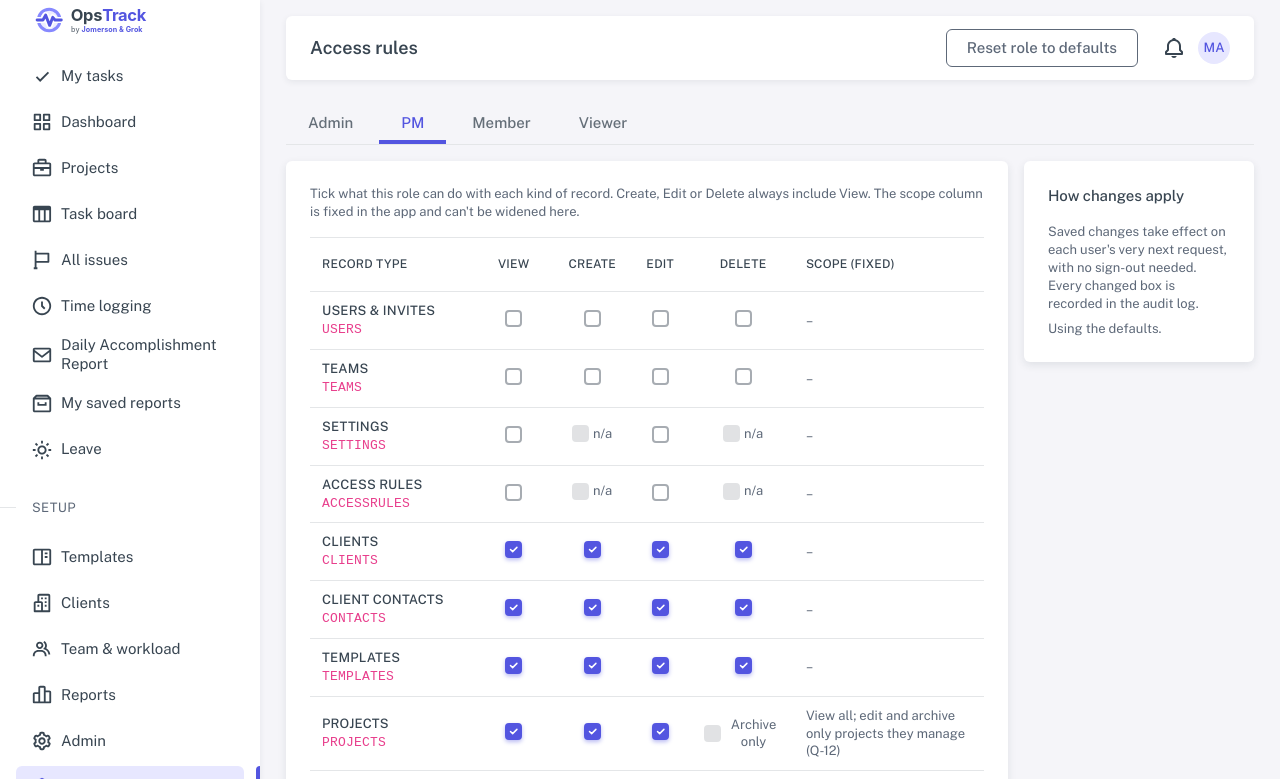
Access rules screen (doc 11, mockup v0.5.2) › EC-53 a 403 on save shows "You no longer have permission to do this."
Expected: the text "clients" is shown, [322, 553, 378, 568]
Click the checkbox named "Delete Clients": click(743, 550) [735, 541, 752, 558]
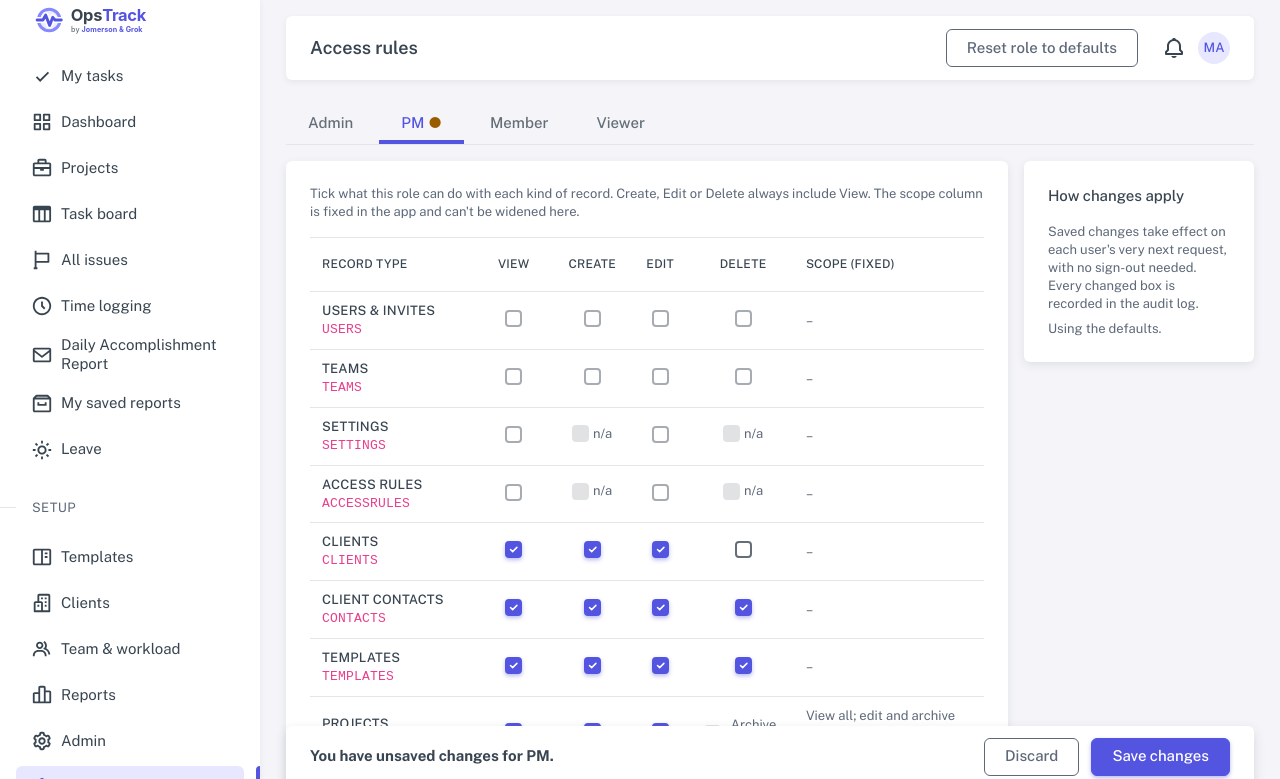
Click the button "Save changes": click(1161, 757) [1091, 738, 1230, 776]
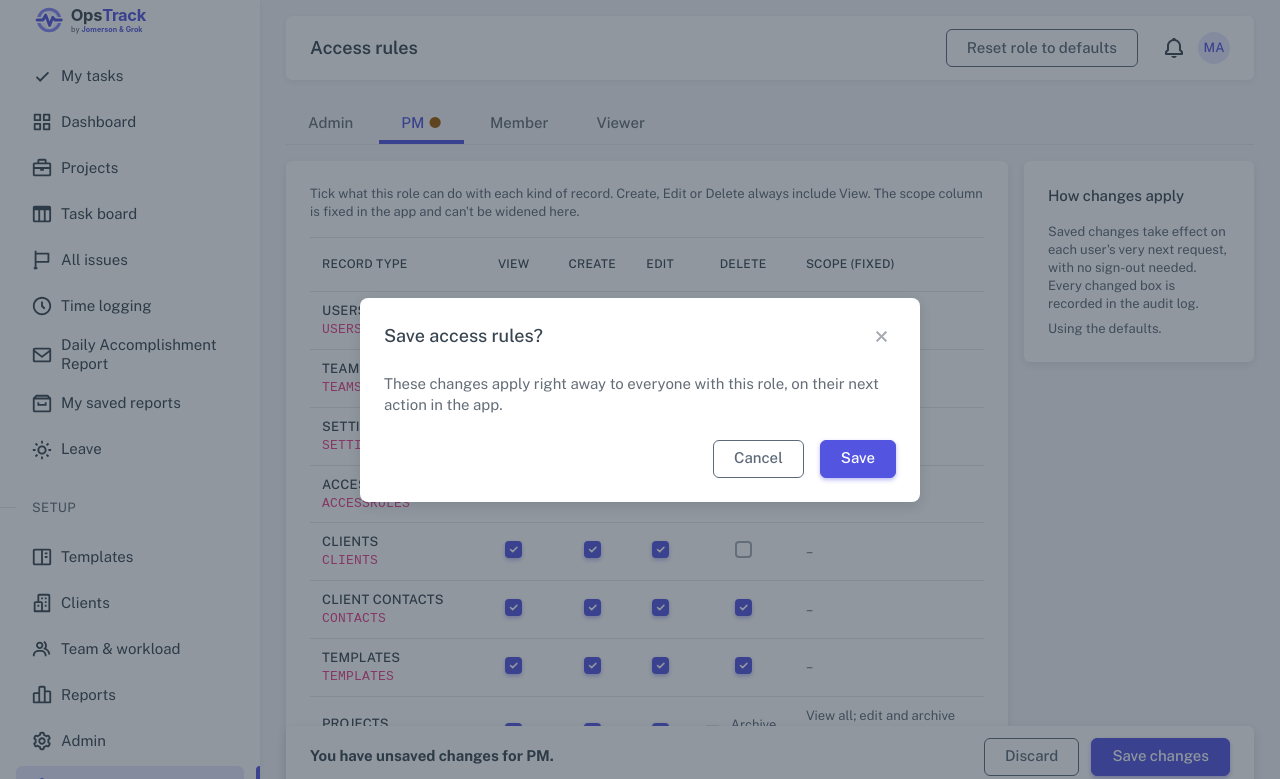
Click the button "Save": click(858, 459) [820, 440, 896, 478]
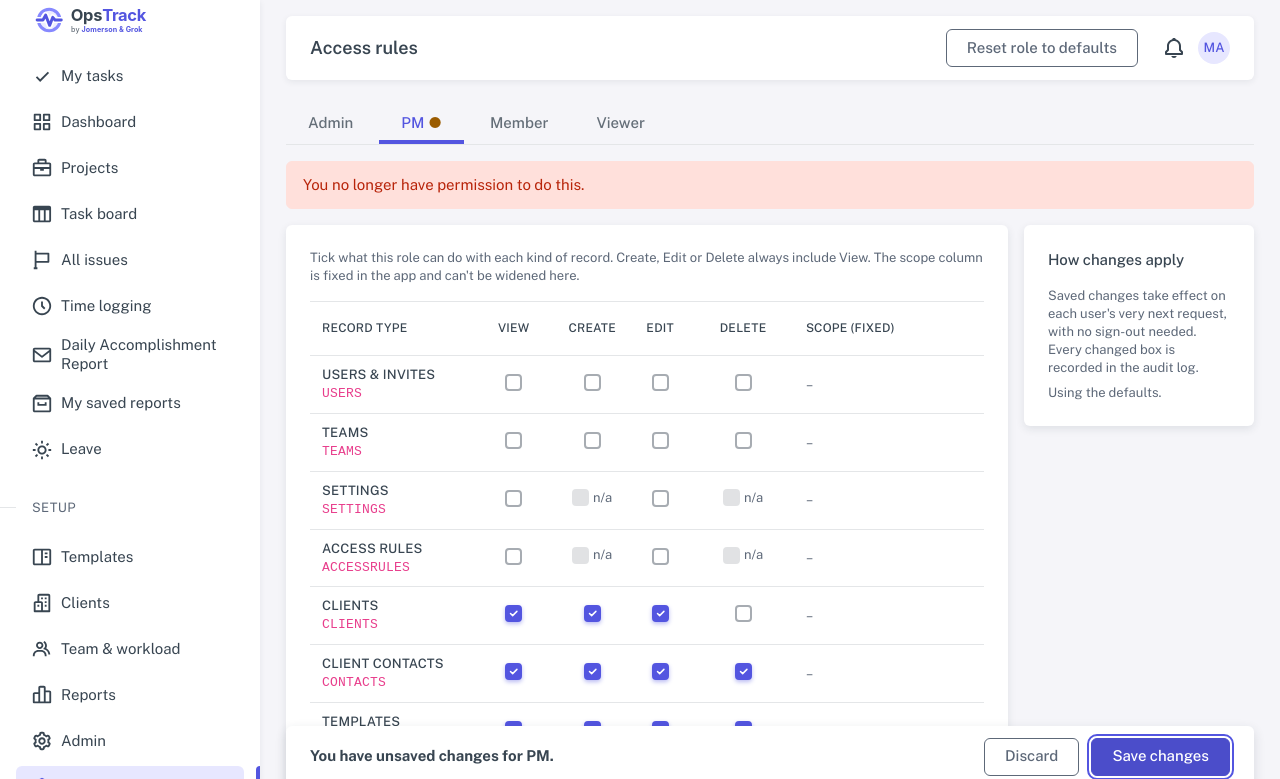
Expected: the text "You no longer have permission to do this." is shown, [286, 161, 1254, 209]
